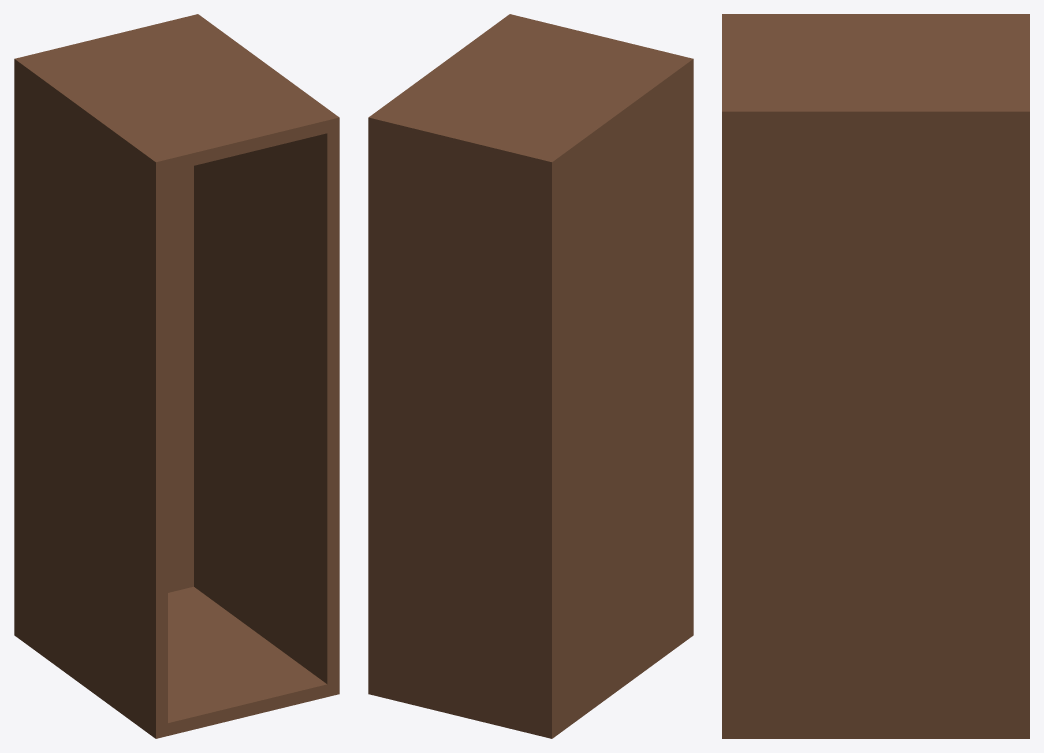
File: Kitchen1_C2_09.fbx
3 renders of one model, left to right at view 1: azimuth 30°, elevation 25°; view 2: azimuth 150°, elevation 25°; view 3: azimuth 270°, elevation 25°, orthographic. The views are drawn at different scales.
Parts seen in each view (by area): view 1: Kitchen1_C2_09; view 2: Kitchen1_C2_09; view 3: Kitchen1_C2_09.
Boxes of the visible parts, left/top/right/bottom form: Kitchen1_C2_09: left=14, top=14, right=339, bottom=738; Kitchen1_C2_09: left=368, top=14, right=693, bottom=738; Kitchen1_C2_09: left=722, top=14, right=1029, bottom=738.
Bounding box in the file's own units: 30 × 90 × 40.
